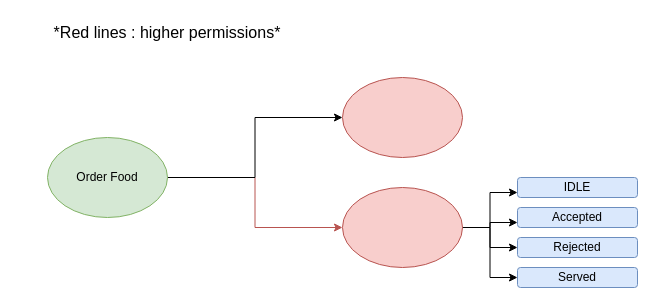
Image size: 655x305. Some labels were removed from this diagram. Each missing label, with the box of its shape:
Changing stage of the order: (342, 186, 462, 268)
Submitting to DB: (342, 76, 462, 158)
